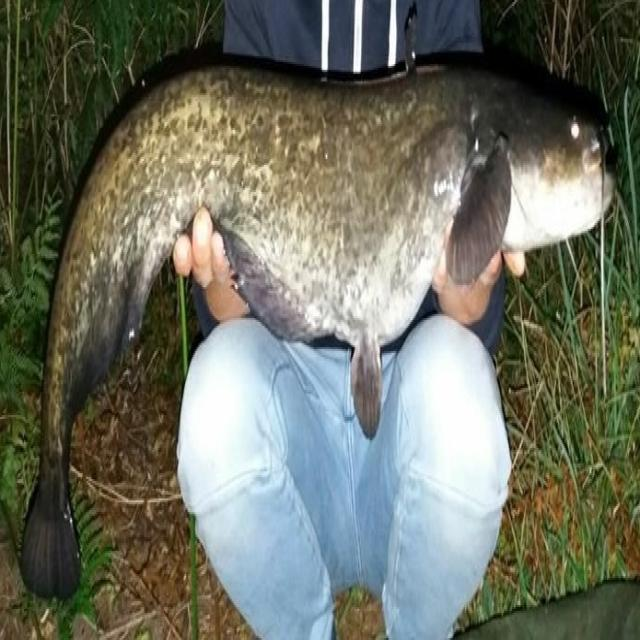Catfish: (29, 33, 622, 616)
